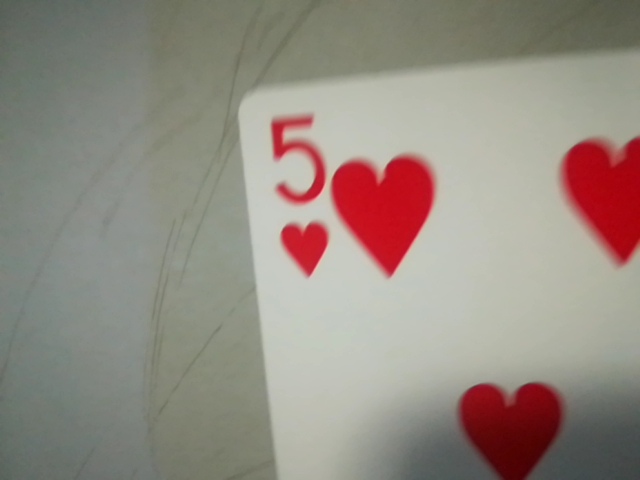hx 5: (253, 101, 338, 284)
